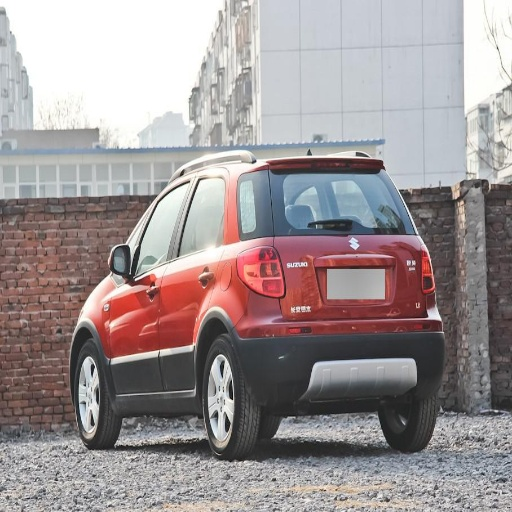back_bumper: (238, 298, 443, 411)
back_glass: (241, 169, 402, 232)
back_left_door: (160, 169, 229, 395)
trunk: (265, 235, 423, 332)
